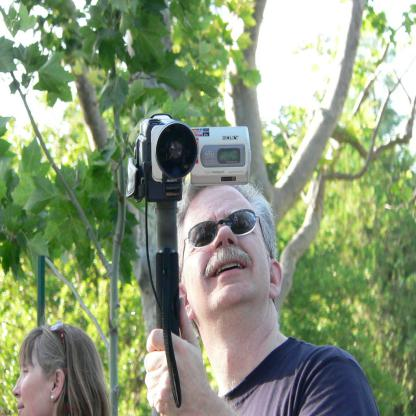Camera: (127, 110, 206, 207)
